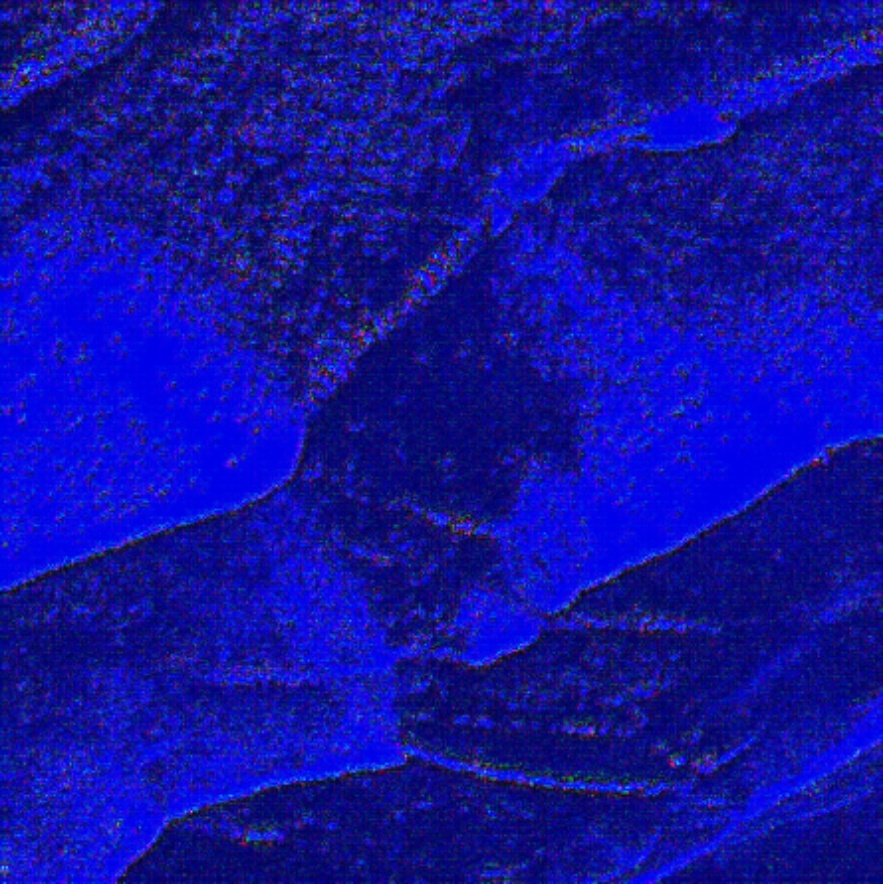rip_current: (247, 242, 607, 655)
